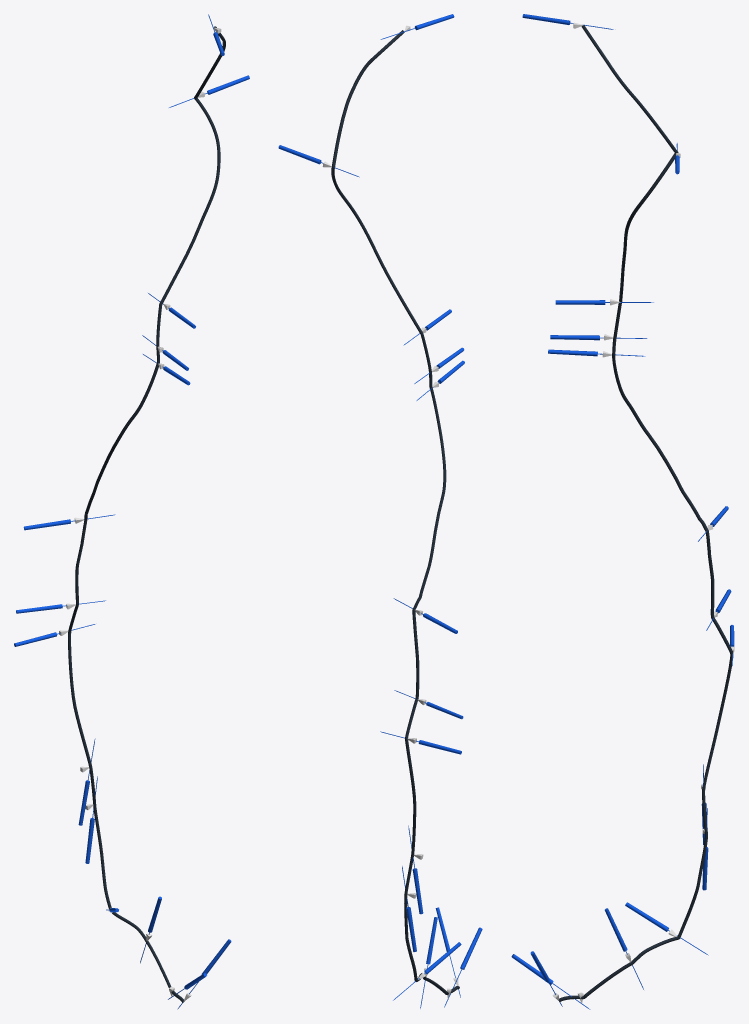
The model's file is JLSX.FBX.
3 renders of one model, left to right at view 1: azimuth 30°, elevation 25°; view 2: azimuth 150°, elevation 25°; view 3: azimuth 270°, elevation 25°, orthographic. The views are drawn at different scales.
Parts seen in each view (by area): view 1: JLSX_ZuQueYingGanJing; view 2: JLSX_ZuQueYingGanJing; view 3: JLSX_ZuQueYingGanJing.
Boxes of the visible parts, x1,y1,x2,y2 form: JLSX_ZuQueYingGanJing: (68,26,225,1002); JLSX_ZuQueYingGanJing: (331,30,459,994); JLSX_ZuQueYingGanJing: (558,25,733,1001).
Size of the model in its own units: 282 by 1250 by 250.
